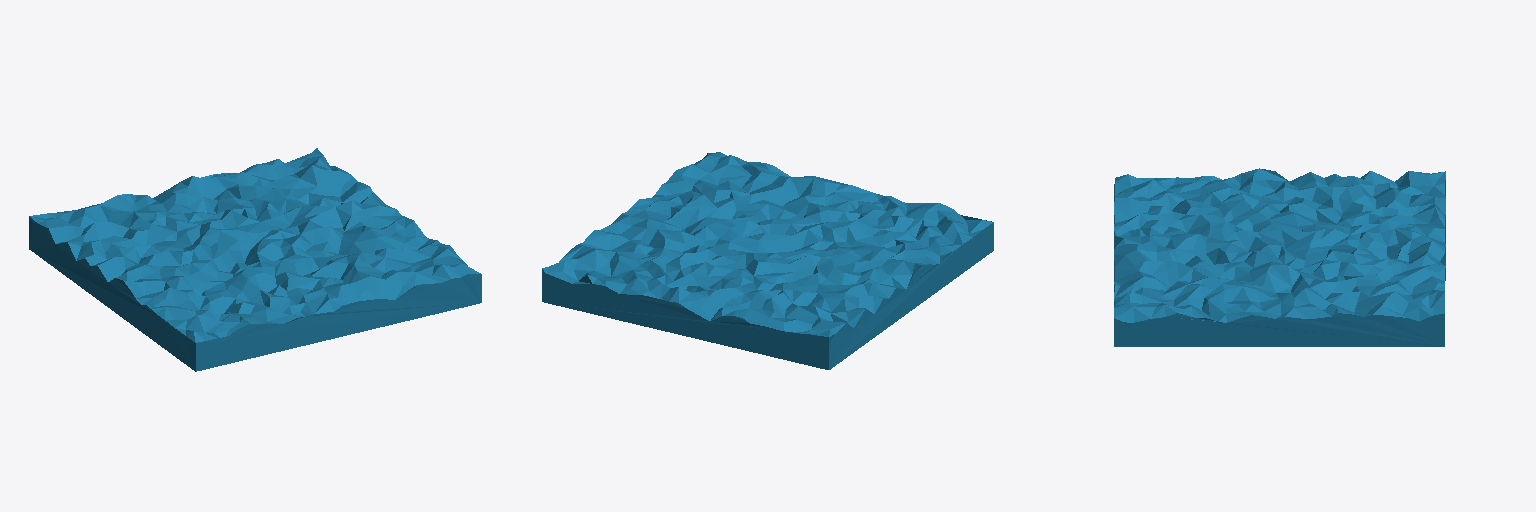
The model's file is water.obj.
3 views of the same model, side by side, from view 1: azimuth 30°, elevation 25°; view 2: azimuth 150°, elevation 25°; view 3: azimuth 270°, elevation 25° (orthographic).
Visible parts, largest first — view 1: Plane; view 2: Plane; view 3: Plane.
Part boxes in pixels (x1,y1,x2,y2): Plane: (29, 148, 481, 371); Plane: (542, 152, 993, 369); Plane: (1114, 168, 1445, 346).
Size of the model in its own units: 16.15 by 2.29 by 16.12.